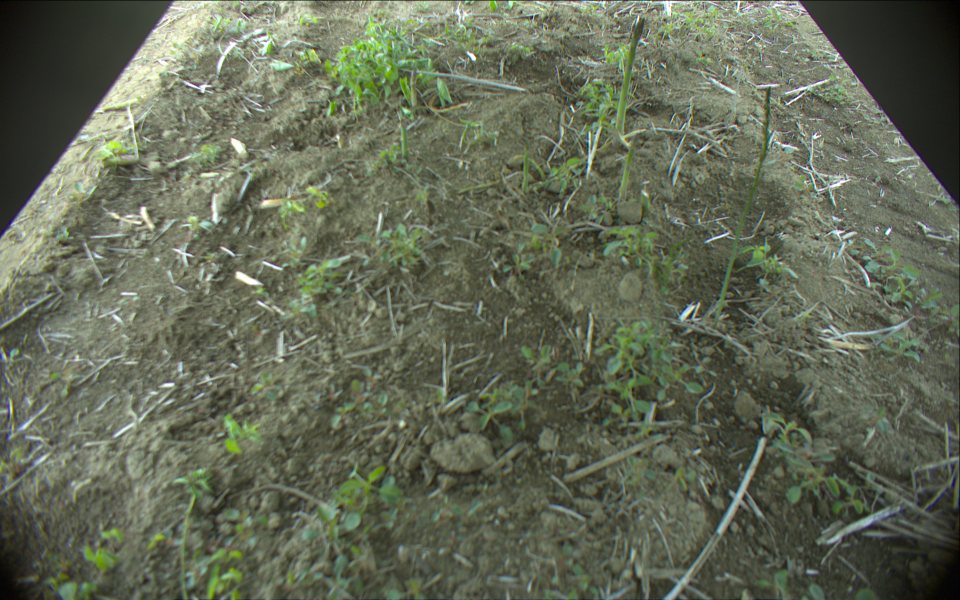aspa: (712, 86, 772, 321), (612, 18, 646, 138), (615, 129, 641, 206), (101, 92, 146, 113), (398, 111, 408, 164), (408, 66, 420, 110), (521, 147, 530, 198)
